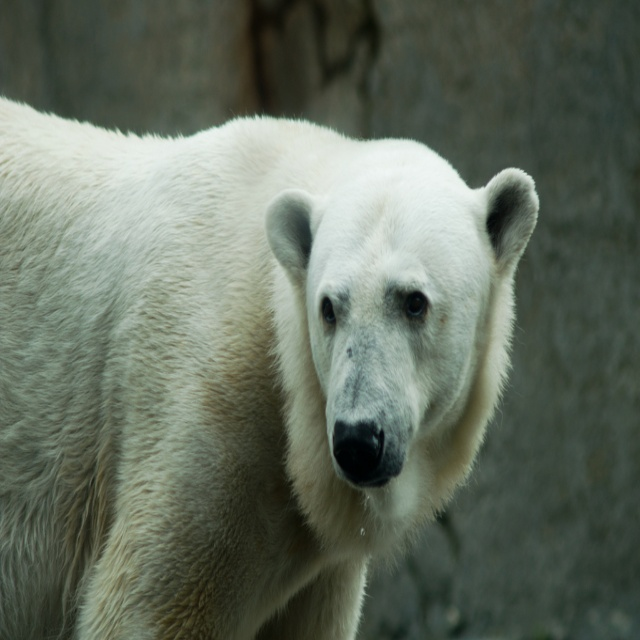Polar bear: (0, 94, 540, 640)
